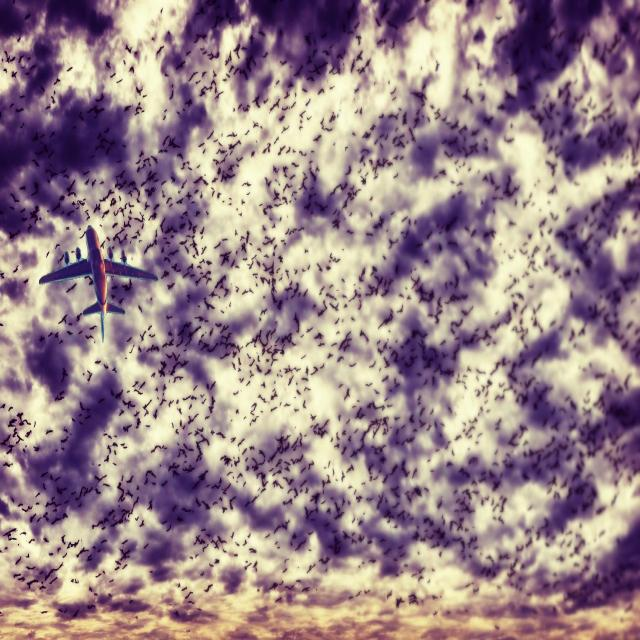airplane: (38, 224, 158, 344)
